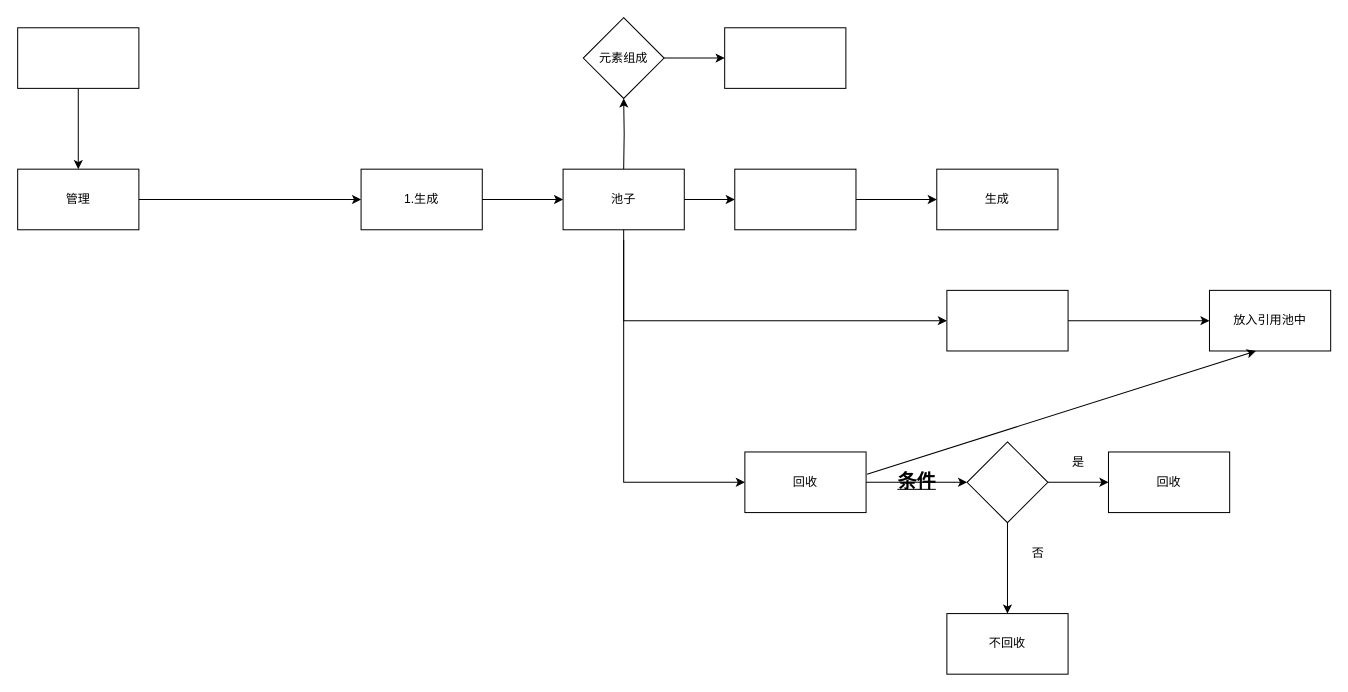
Some shapes in this 1348 by 692 pixel diagram are drawn without their labels. The shapes that lost their labels are listed below. From the top down, each one's centre as x and y in pixels, then its label:
At (78,57): "对象池".
At (785,57): "池子对象Item（被封装）".
At (795,199): "取出".
At (1007,320): "释放".
At (1007,482): "引用数=0 数量>池子数量".
